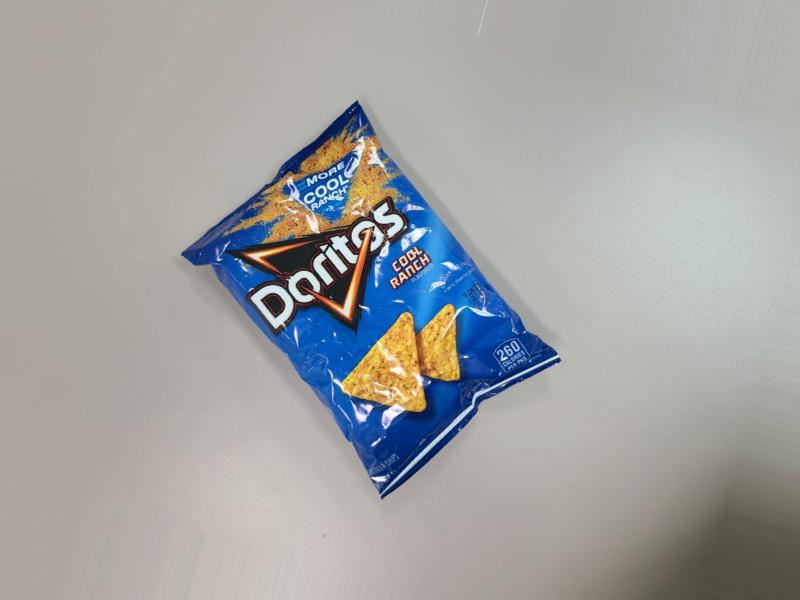doritos: (187, 75, 553, 517)
